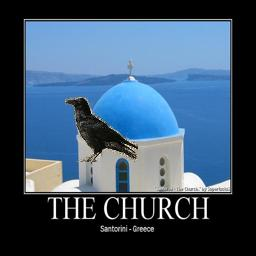Crow: (66, 98, 139, 163)
